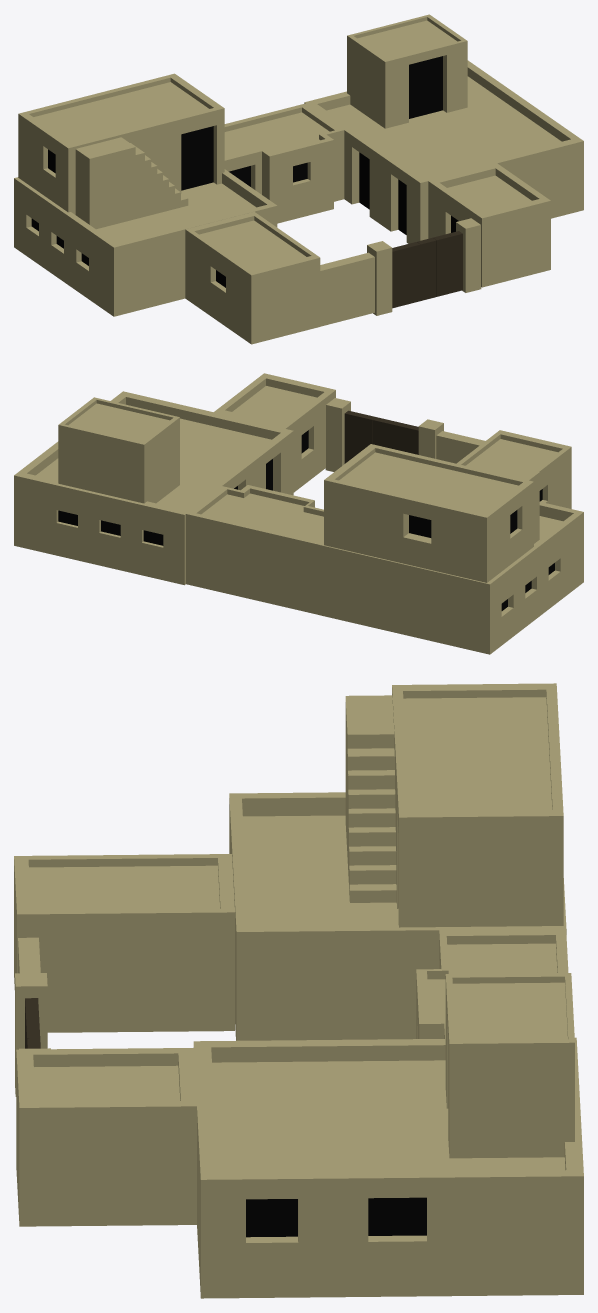
The model's file is _ompondo.fbx.
The picture shows the model from 3 angles, top to bottom: view 1: azimuth 30°, elevation 25°; view 2: azimuth 150°, elevation 25°; view 3: azimuth 270°, elevation 25°; orthographic projection. The views are drawn at different scales.
Parts seen in each view (by area): view 1: pCube145; view 2: pCube145; view 3: pCube145.
Boxes of the visible parts, x1,y1,x2,y2 form: pCube145: (14, 14, 583, 344); pCube145: (14, 373, 583, 654); pCube145: (14, 683, 583, 1298).
Size of the model in its own units: 1737 by 483 by 1074.
